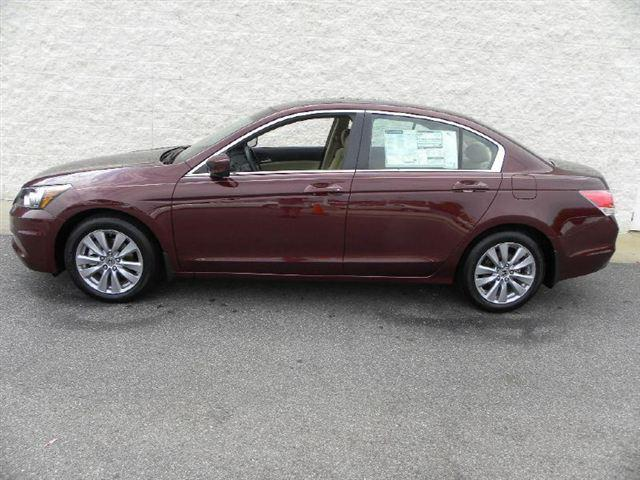Car: (3, 96, 639, 349)
